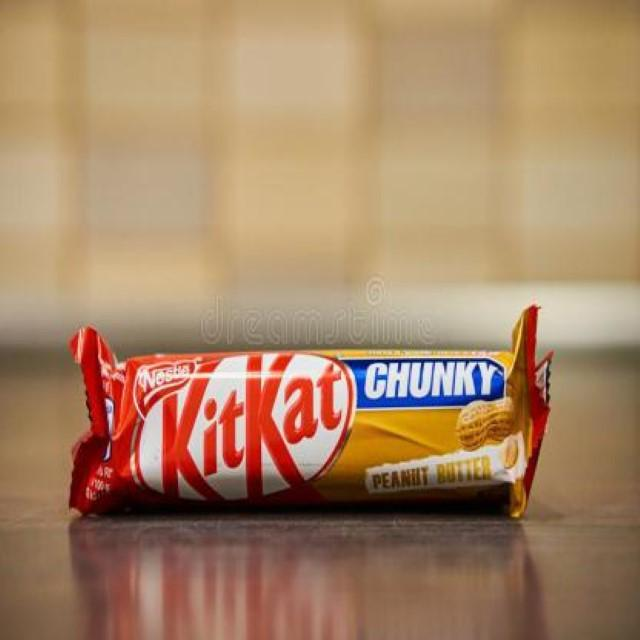kitkat_chocolate: (83, 332, 540, 518)
